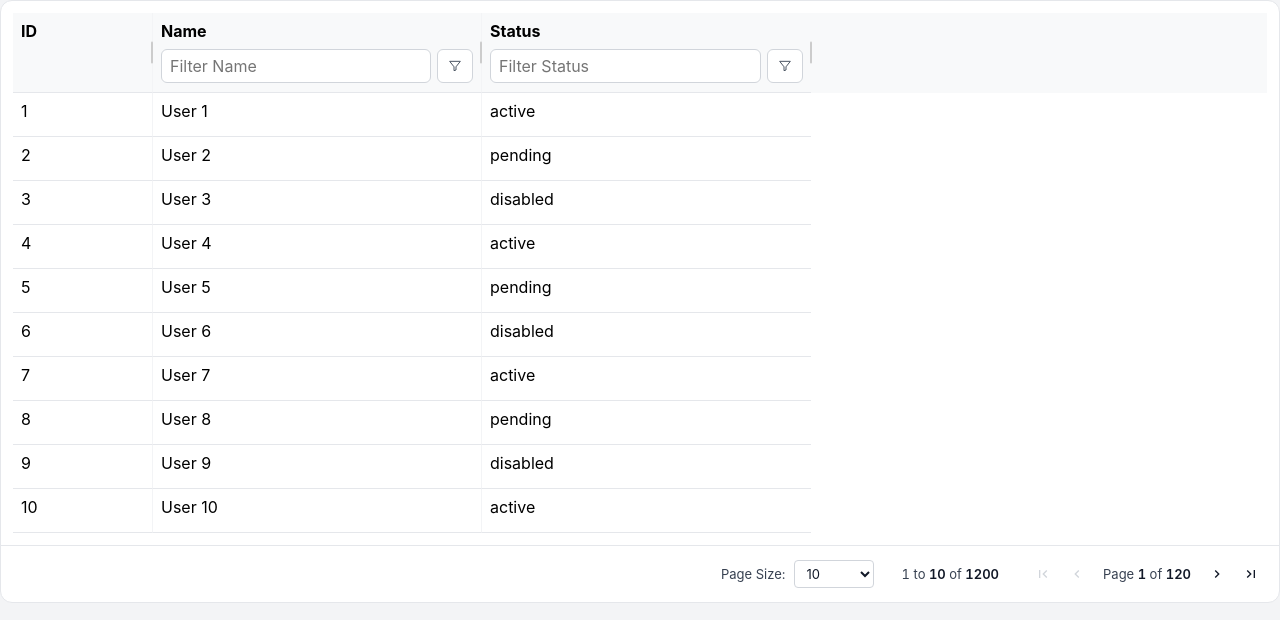
it: DataGrid › sorts by name column
Check: the button "User 1" is shown, box top-left (161, 101), bottom-right (208, 121)
Click the button with class "header-button" showing "Name" at (184, 31), box top-left (161, 21), bottom-right (473, 41)
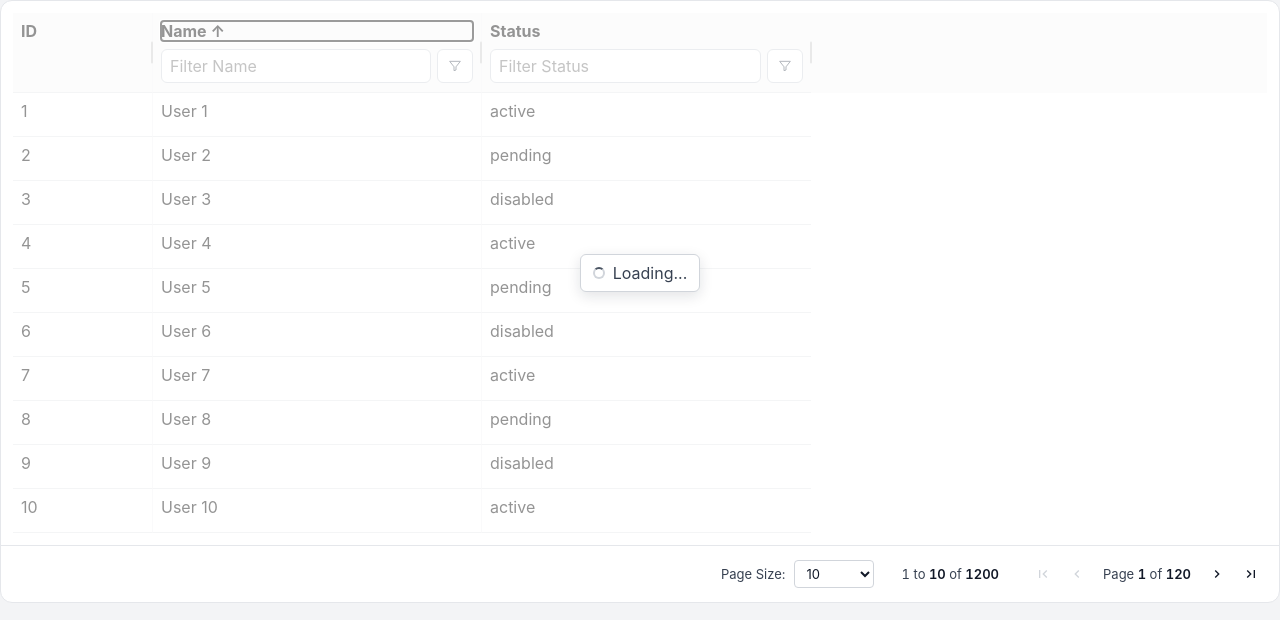
Click the button with class "header-button" showing "Name ↑" at (184, 31), box top-left (161, 21), bottom-right (473, 41)
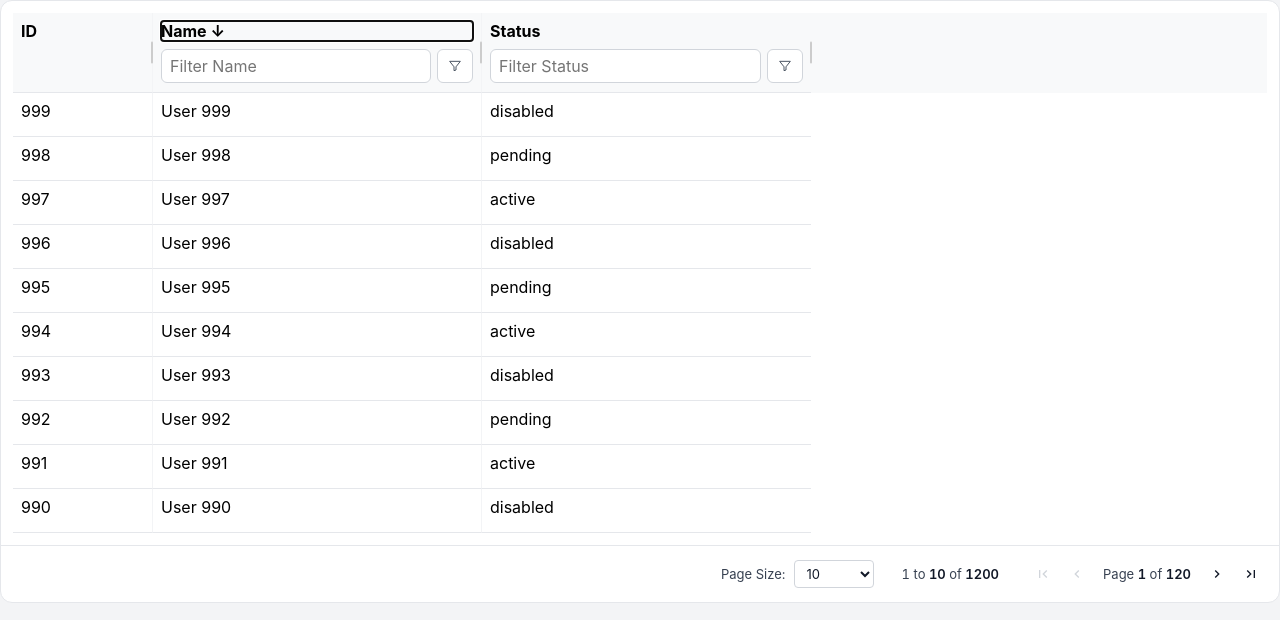
Check: the button "User 999" is shown, box top-left (161, 101), bottom-right (231, 121)
